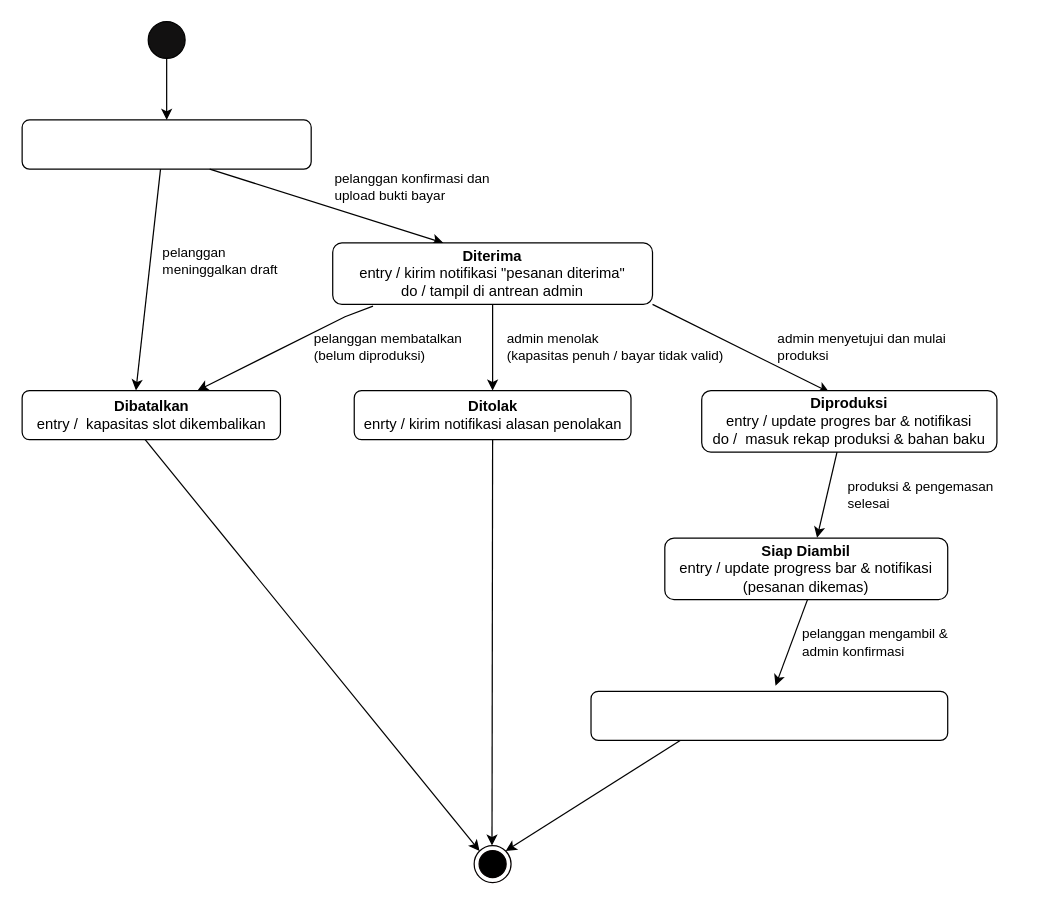
This 1038x904 diagram has some shape labels left out. The box of each missing label's shape, as (x1, y1, x2, y2) in pixels:
Draft entry / simpan pilihan box di Mochi Builder: (21, 119, 311, 169)
Selesai entry / simpan riwayat & update laporan penjualan: (590, 690, 948, 740)
